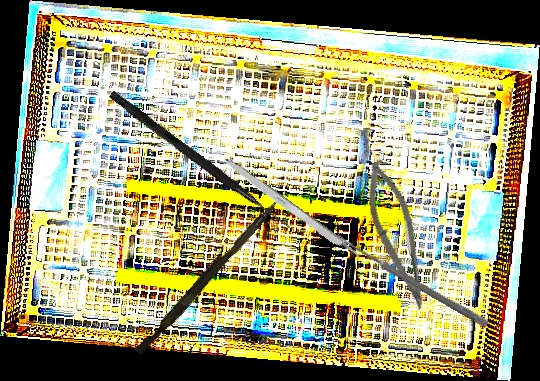Hook Surgical: (107, 90, 294, 231)
Micro Scissor: (353, 156, 445, 315)
Pusher: (134, 193, 281, 359)
Scalpel Handle: (221, 155, 361, 262)
Surgical Spoon: (334, 233, 490, 328)
